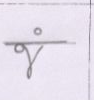anusvara: (34, 28, 42, 35)
